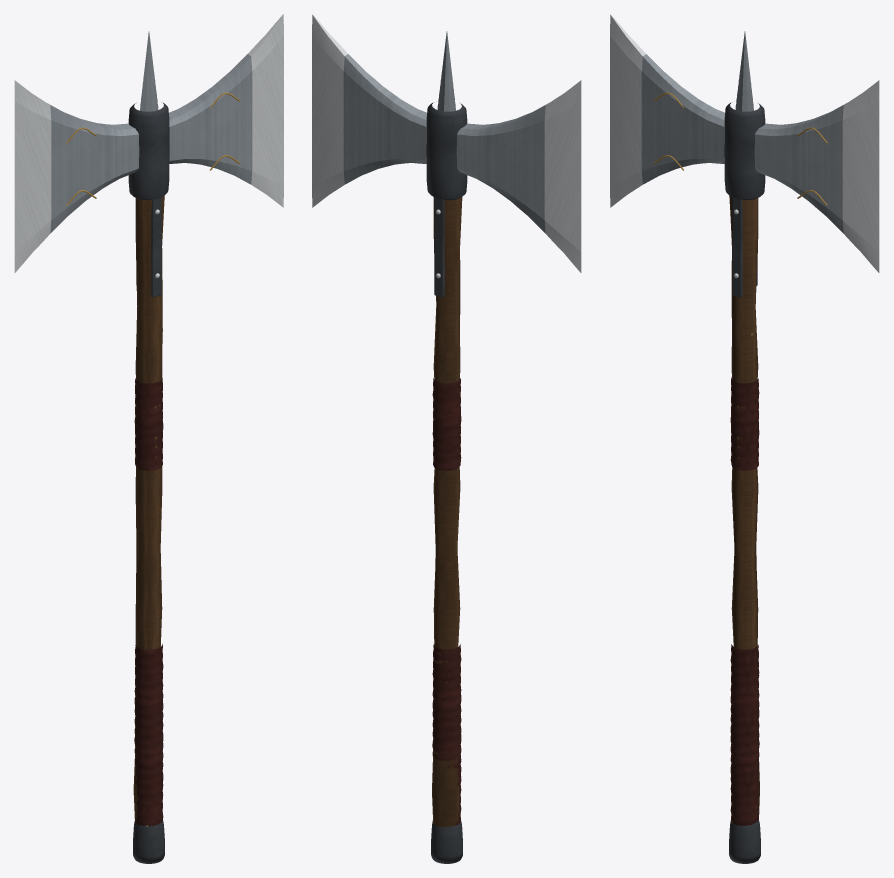
The model's file is great-axe.lod1.glb.
3 renders of one model, left to right at view 1: azimuth 30°, elevation 25°; view 2: azimuth 150°, elevation 25°; view 3: azimuth 330°, elevation 25°, orthographic.
Visible parts, largest first — view 1: steel / forged blade steel, edge / honed bright bevel, wood / oiled hardwood, leather / oiled leather wrap, darksteel / oil-blackened fittings; view 2: steel / forged blade steel, edge / honed bright bevel, wood / oiled hardwood, leather / oiled leather wrap, darksteel / oil-blackened fittings; view 3: steel / forged blade steel, edge / honed bright bevel, wood / oiled hardwood, leather / oiled leather wrap, darksteel / oil-blackened fittings.
Boxes of the visible parts, x1,y1,x2,y2 form: steel / forged blade steel: (47, 31, 252, 233); edge / honed bright bevel: (14, 14, 283, 278); wood / oiled hardwood: (133, 196, 164, 819); leather / oiled leather wrap: (134, 378, 163, 826); darksteel / oil-blackened fittings: (128, 102, 169, 863); steel / forged blade steel: (343, 31, 548, 233); edge / honed bright bevel: (312, 14, 581, 278); wood / oiled hardwood: (432, 197, 462, 827); leather / oiled leather wrap: (432, 378, 461, 825); darksteel / oil-blackened fittings: (426, 102, 467, 863); steel / forged blade steel: (641, 31, 846, 233); edge / honed bright bevel: (610, 14, 879, 278); wood / oiled hardwood: (729, 196, 759, 819); leather / oiled leather wrap: (730, 377, 759, 825); darksteel / oil-blackened fittings: (724, 102, 765, 863).
Size of the model in its own units: 0.4507 by 1.32 by 0.0558.
8 materials, 6 textured.
